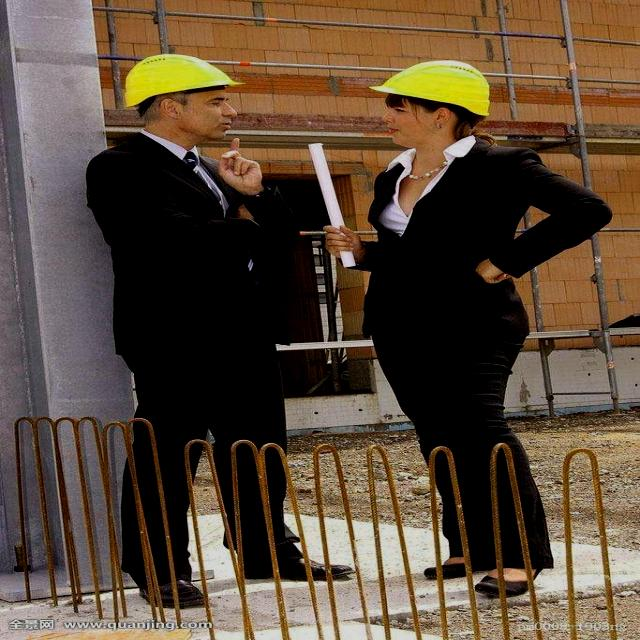face_nomask: (163, 86, 246, 146), (380, 92, 454, 148)
hand_noglove: (226, 136, 272, 206), (320, 227, 373, 260)
head_helmet: (366, 57, 493, 116), (110, 47, 234, 101)
person: (356, 59, 586, 593), (89, 52, 296, 588)
shoes: (229, 538, 353, 586), (123, 560, 214, 612), (472, 549, 556, 600), (403, 541, 497, 582)
